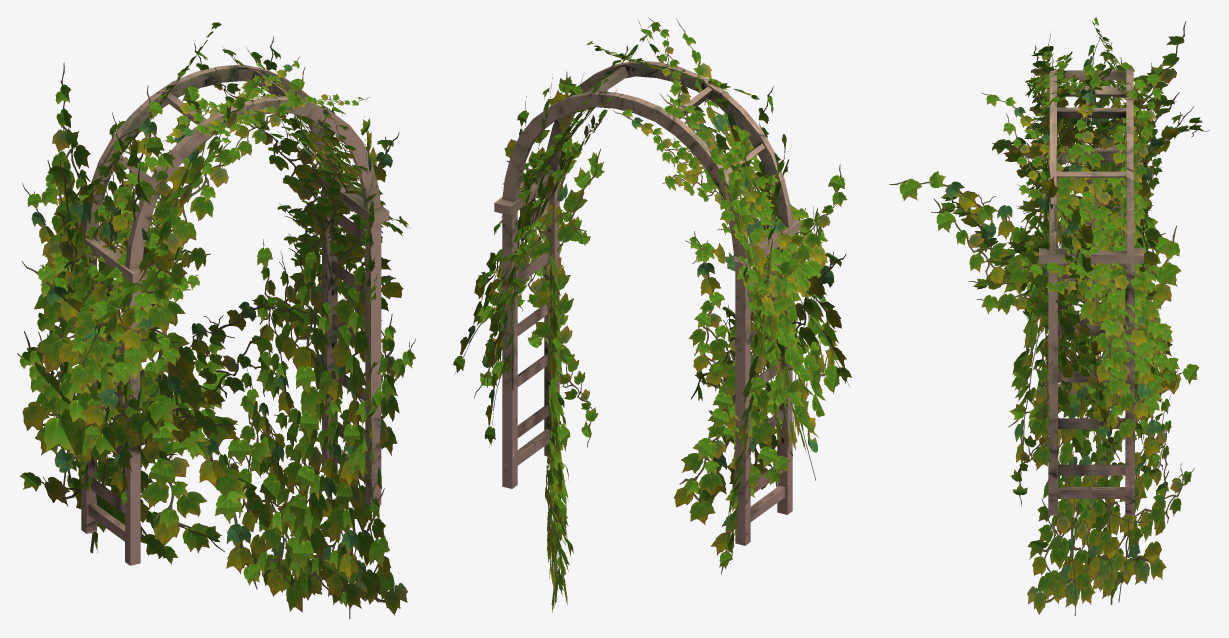
Rendered from P_Ivy03.obj.
3 views of the same model, side by side, from view 1: azimuth 30°, elevation 25°; view 2: azimuth 150°, elevation 25°; view 3: azimuth 270°, elevation 25° (orthographic). The views are drawn at different scales.
Size of the model in its own units: 1.26 by 1.87 by 1.01.
Materials: 15 (15 with a texture image).
